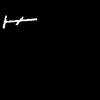double_crochet: (3, 16, 36, 27)
